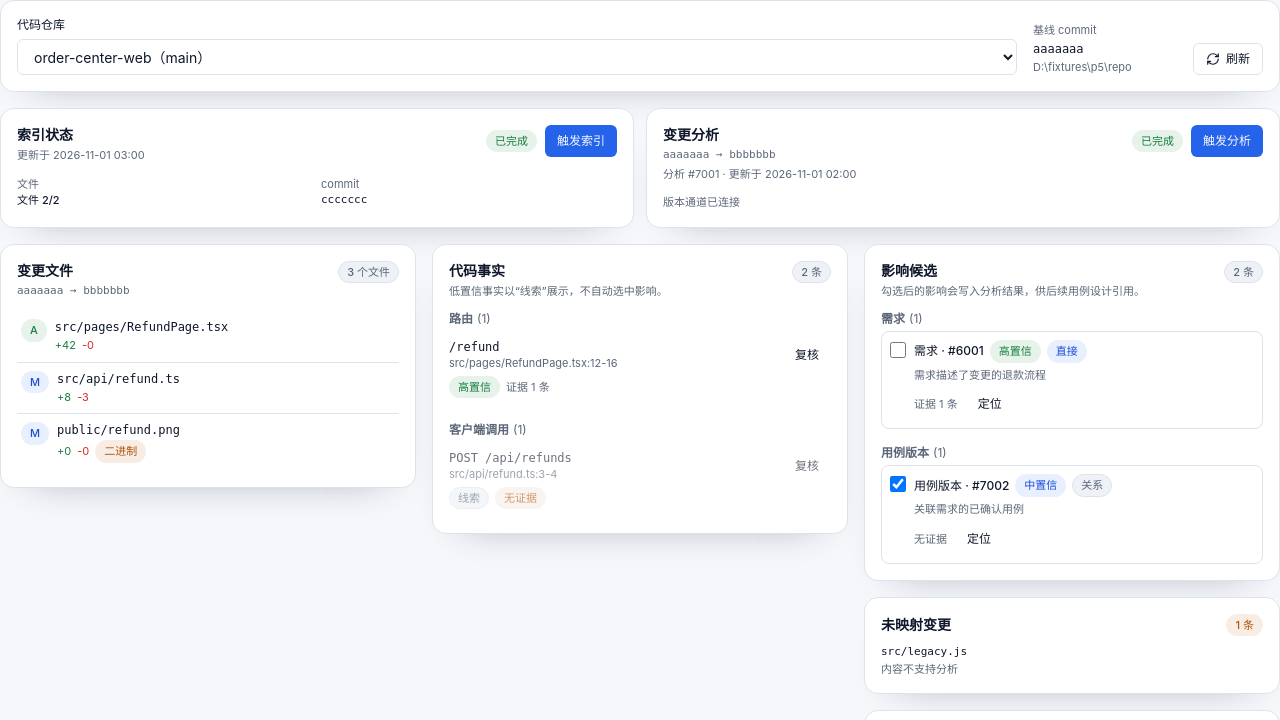
CodeTab › toggles a candidate optimistically and rolls back on PATCH failure
Expected: the element named "代码仓库状态" is shown, [0, 0, 1279, 92]
Click the checkbox named "选择影响候选 需求 6001" at (898, 350), box [890, 342, 906, 358]
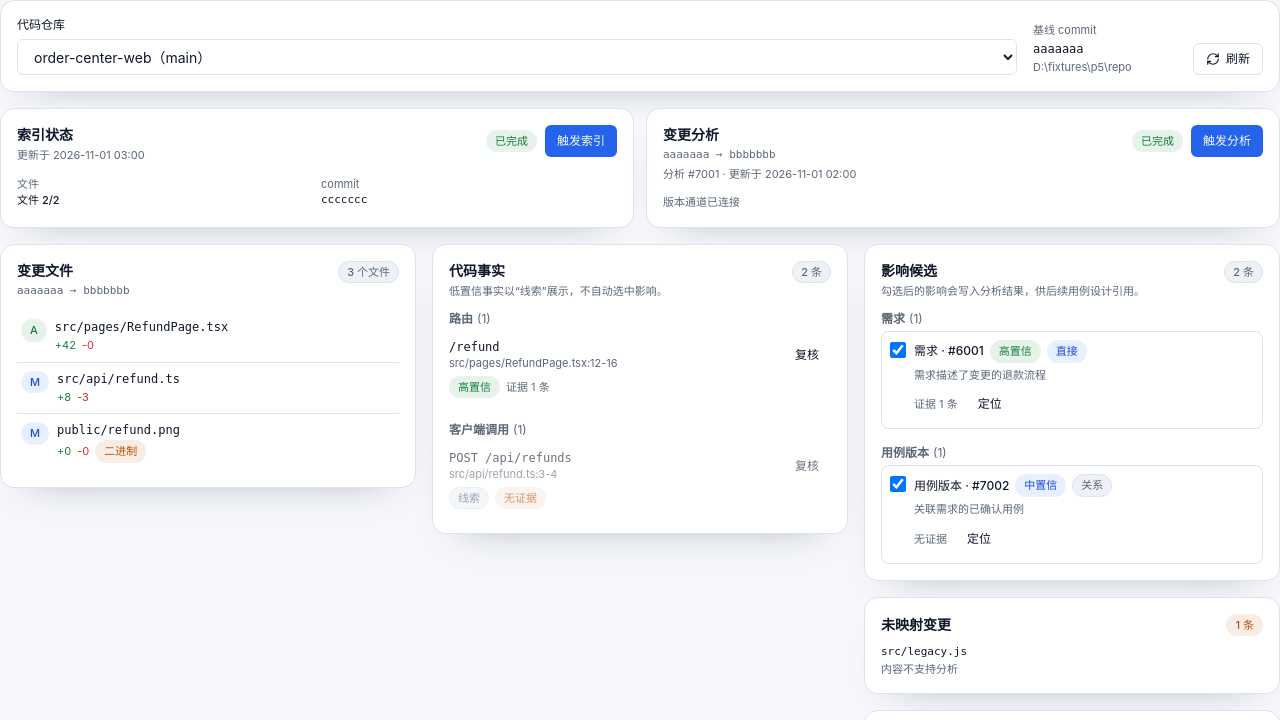
Expected: the checkbox named "选择影响候选 需求 6001" is checked
Click the checkbox named "选择影响候选 需求 6001" at (898, 350), box [890, 342, 906, 358]
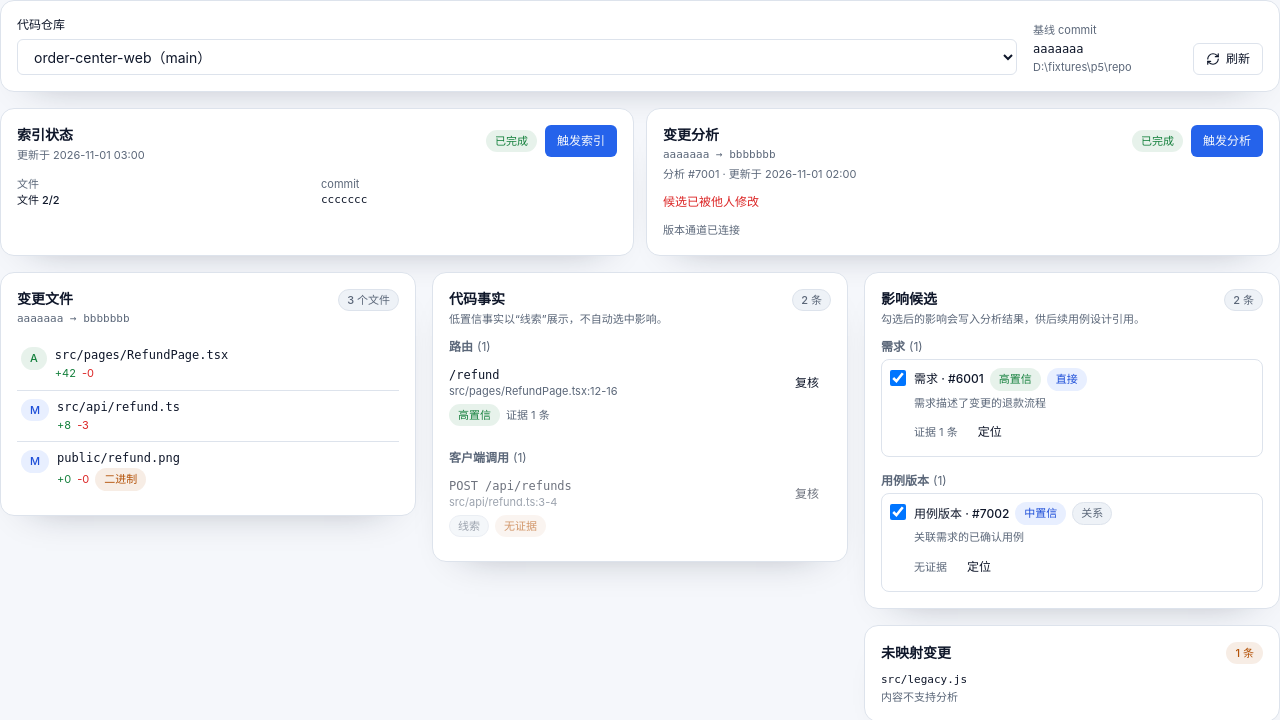
Expected: the checkbox named "选择影响候选 需求 6001" is checked, [890, 370, 906, 386]
Expected: the text "候选已被他人修改" is shown, [663, 194, 759, 209]
